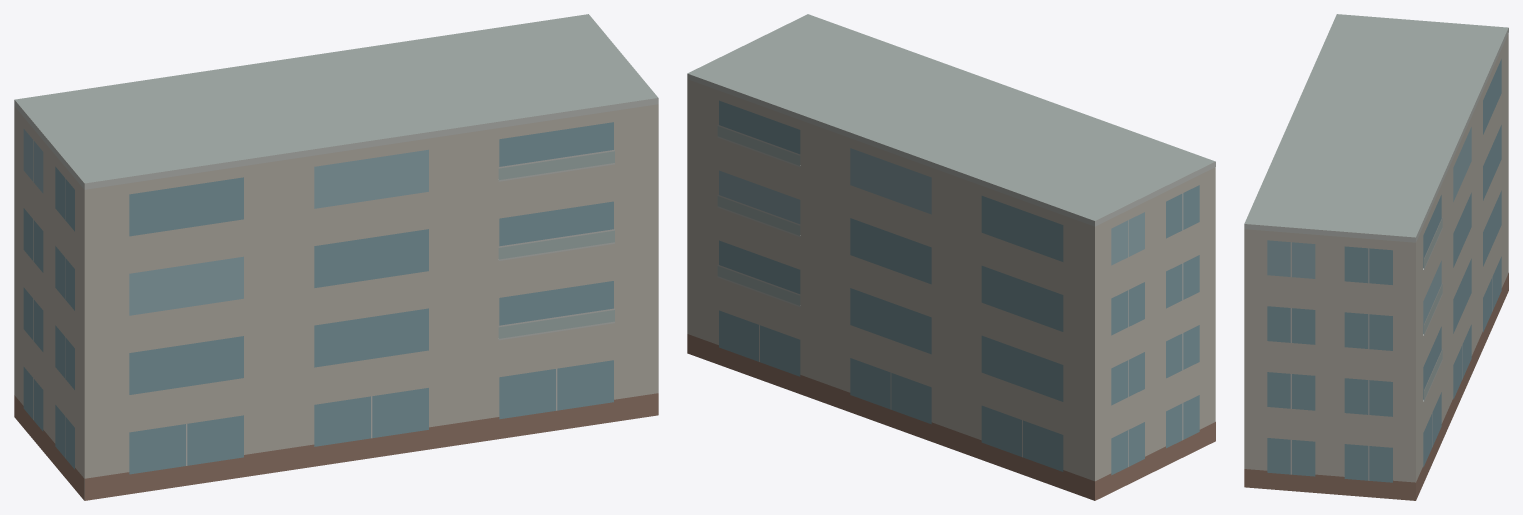
File: residential-96ca326f-f898-4163-9e6f-2bc6d792bf51.glb
3 views of the same model, side by side, from view 1: azimuth 30°, elevation 25°; view 2: azimuth 150°, elevation 25°; view 3: azimuth 270°, elevation 25° (orthographic). The views are drawn at different scales.
Parts seen in each view (by area): view 1: residential-96ca326f-f898-4163-9e6f-2bc6d792bf51.tmp; view 2: residential-96ca326f-f898-4163-9e6f-2bc6d792bf51.tmp; view 3: residential-96ca326f-f898-4163-9e6f-2bc6d792bf51.tmp.
Boxes of the visible parts, x1=… form: residential-96ca326f-f898-4163-9e6f-2bc6d792bf51.tmp: x1=14, y1=14, x2=658, y2=500; residential-96ca326f-f898-4163-9e6f-2bc6d792bf51.tmp: x1=687, y1=14, x2=1215, y2=500; residential-96ca326f-f898-4163-9e6f-2bc6d792bf51.tmp: x1=1244, y1=14, x2=1508, y2=500.
Bounding box in the file's own units: 22.21 × 12.2 × 11.11.
